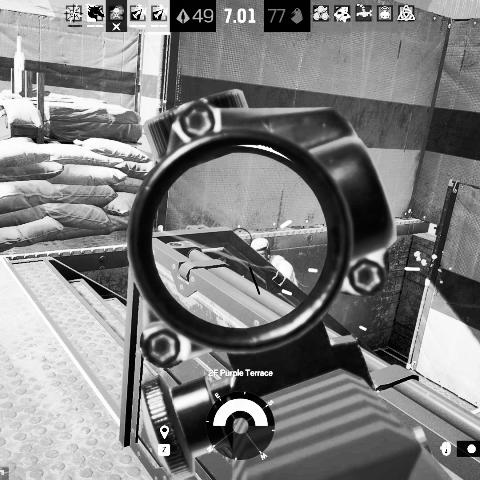Character: (250, 238, 299, 288)
Head: (252, 238, 272, 260)
